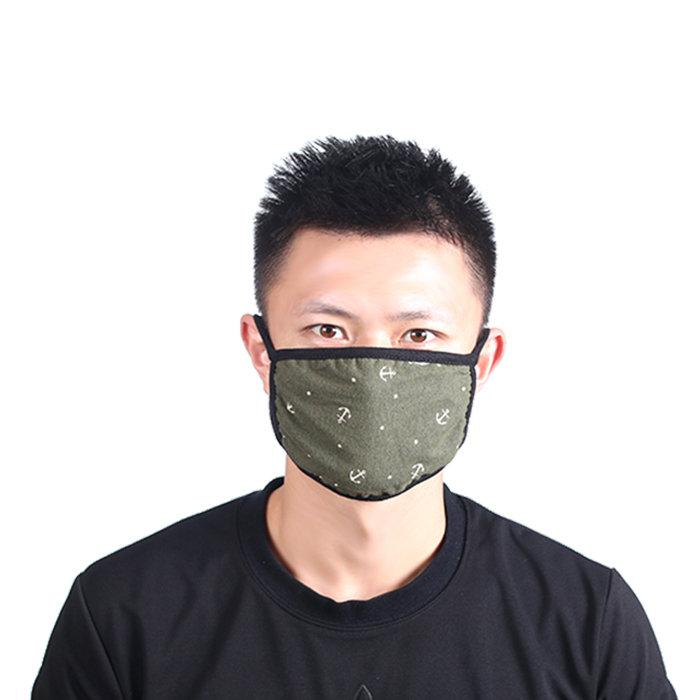OK: (275, 272, 470, 502)
